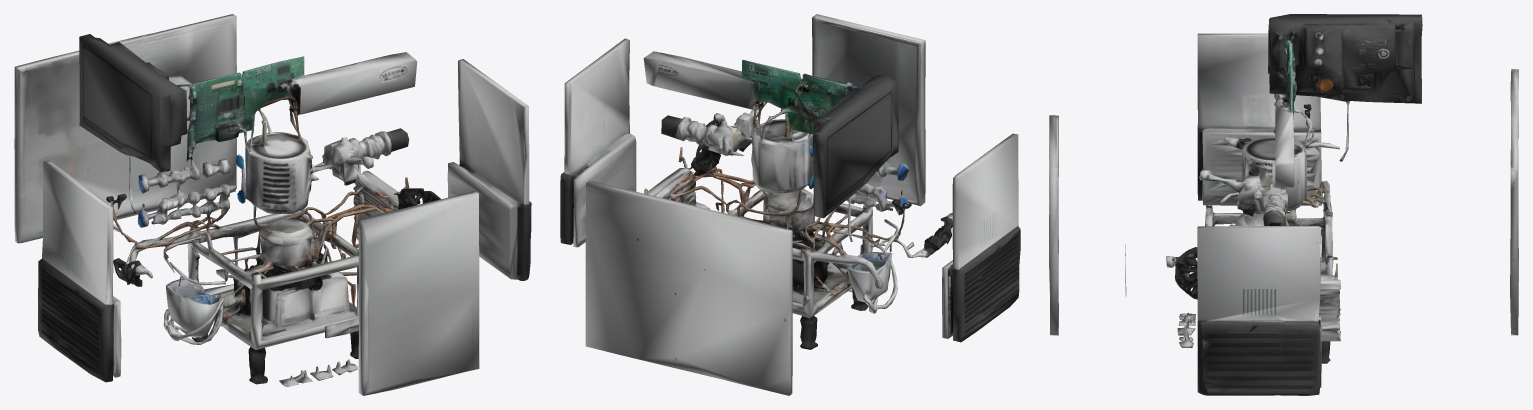
File: Meshy_AI_Exploded_Assembly_Vie_0605141814_texture.glb
3 views of the same model, side by side, from view 1: azimuth 30°, elevation 25°; view 2: azimuth 150°, elevation 25°; view 3: azimuth 270°, elevation 25° (orthographic). The views are drawn at different scales.
Bounding box in the file's own units: 2 × 1.25 × 1.99.
Materials: 1 (1 with a texture image).
